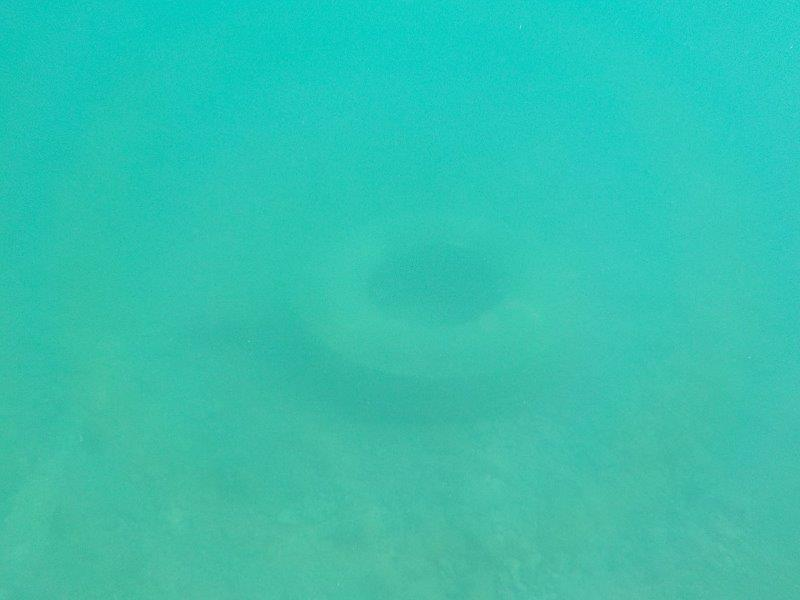tire: (285, 195, 582, 425)
